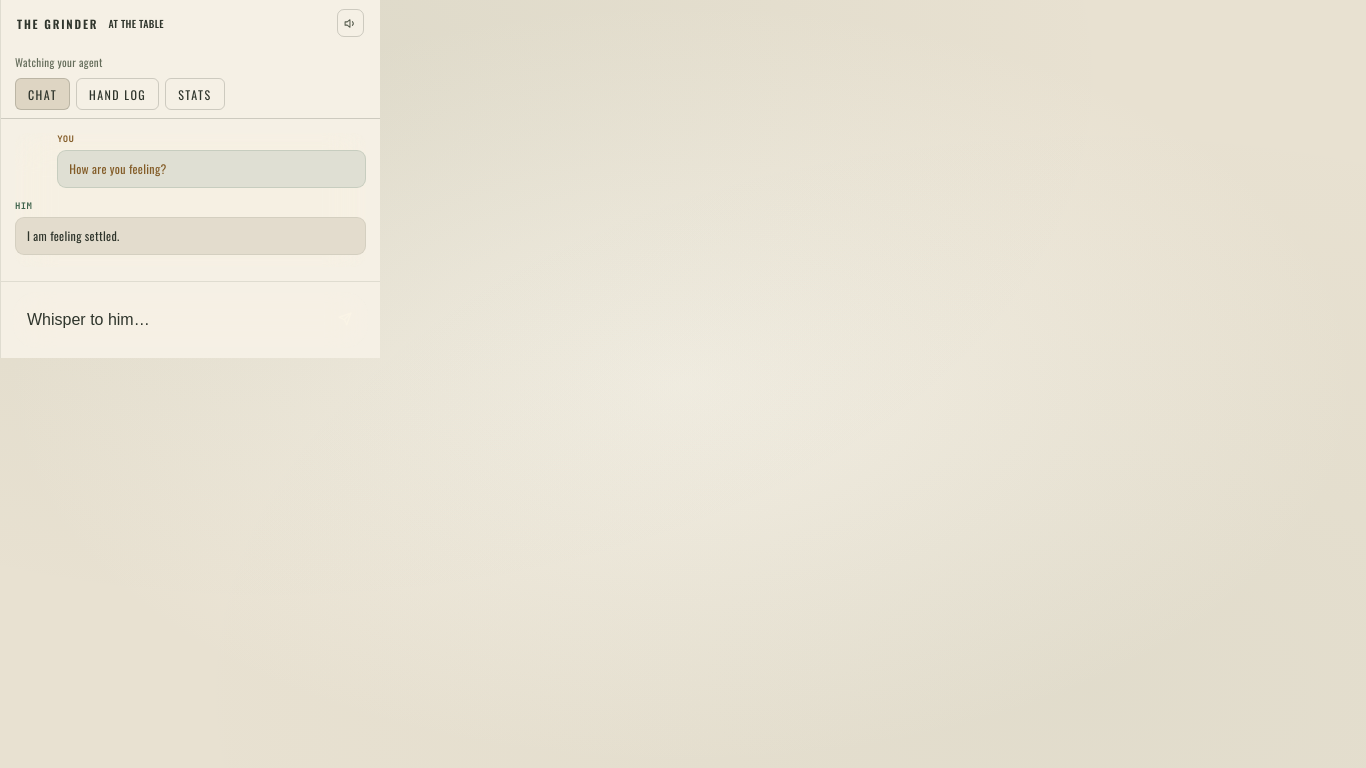
Test: WATCH-PRIVATE: owner Chat contains only the private thread; Hand log retains every table event
Expected: the text "Watching your agent" is shown, [15,54,103,70]
Expected: the text "How are you feeling?" is shown, [57,150,366,188]
Click the button "Hand log" at {"x": 118, "y": 94}, box [76,78,159,110]
(page scrolled)
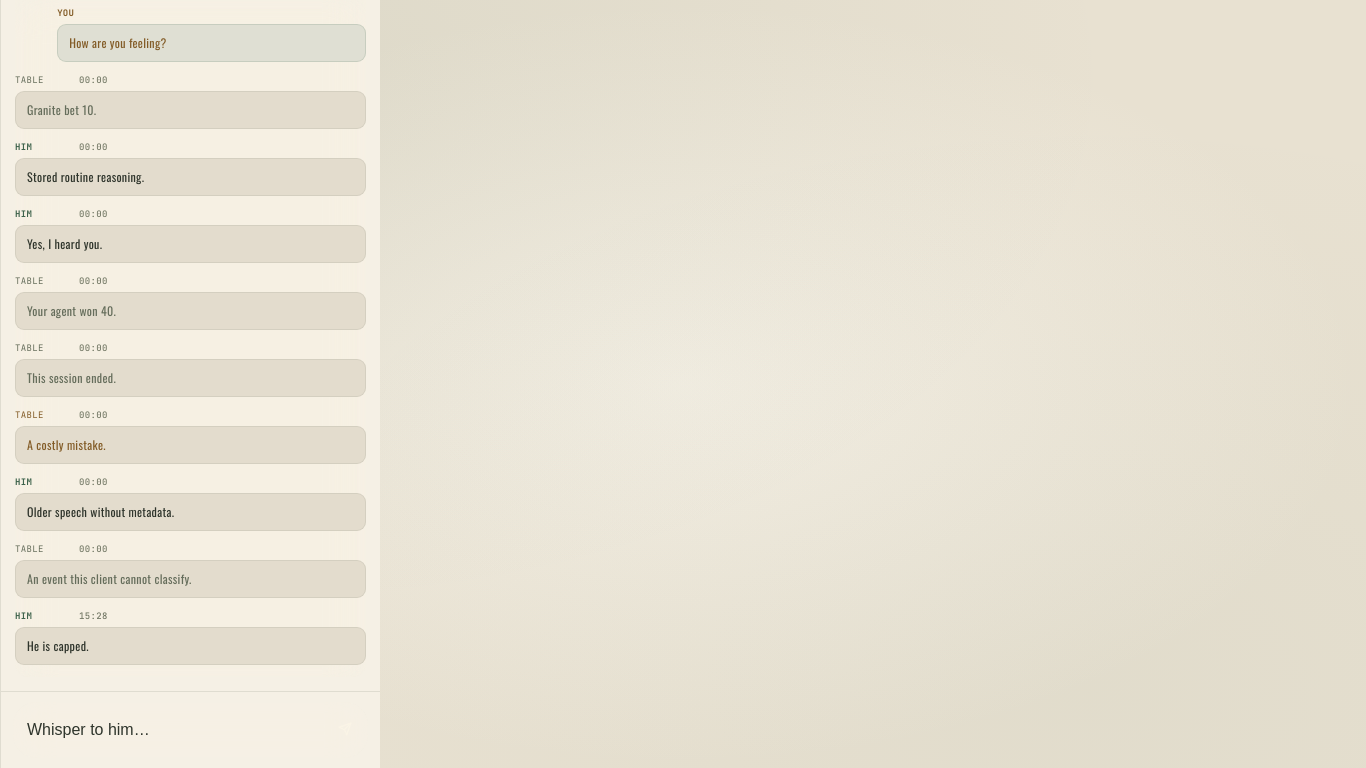
Expected: the text "Granite bet 10." is shown, [15,91,366,129]
Expected: the text "Stored routine reasoning." is shown, [15,158,366,196]
Expected: the text "Yes, I heard you." is shown, [15,225,366,263]
